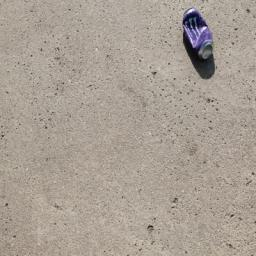FOD: (176, 7, 221, 82)
